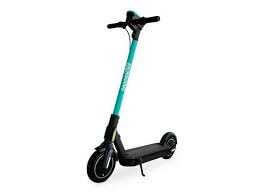kick_board: (86, 12, 178, 182)
kick_body: (121, 143, 163, 166)
kick_handler: (108, 10, 160, 39)
kick_neck: (106, 43, 138, 142)
kick_wheel: (87, 146, 117, 183), (162, 132, 177, 160)
